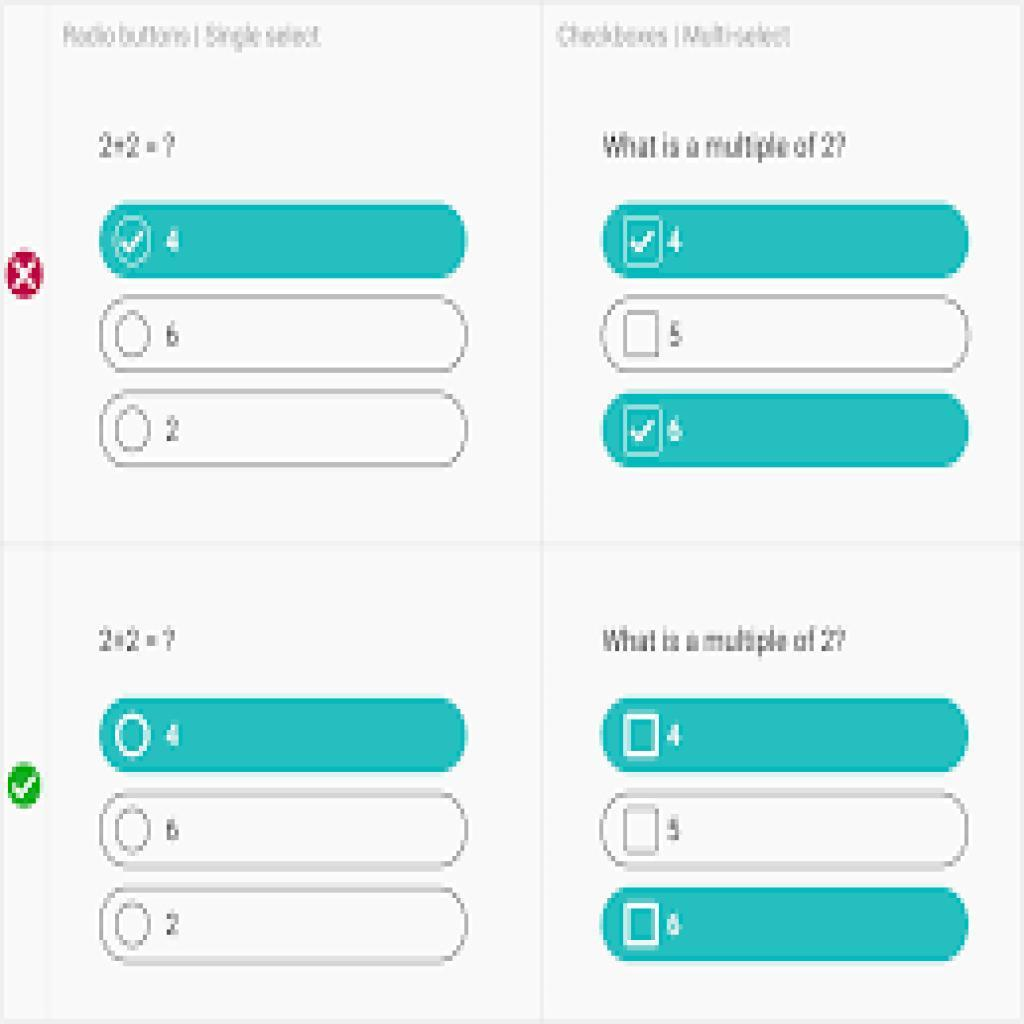checkbox: (114, 215, 154, 268), (114, 310, 155, 360), (625, 405, 664, 456), (117, 405, 153, 458), (624, 312, 662, 359), (622, 807, 660, 854), (623, 712, 661, 757), (627, 219, 660, 266), (626, 903, 660, 946)
radio: (114, 898, 154, 949), (116, 808, 156, 856), (117, 713, 154, 762)
